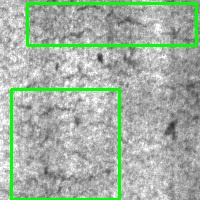crazing: (11, 89, 119, 199), (27, 3, 196, 45)
